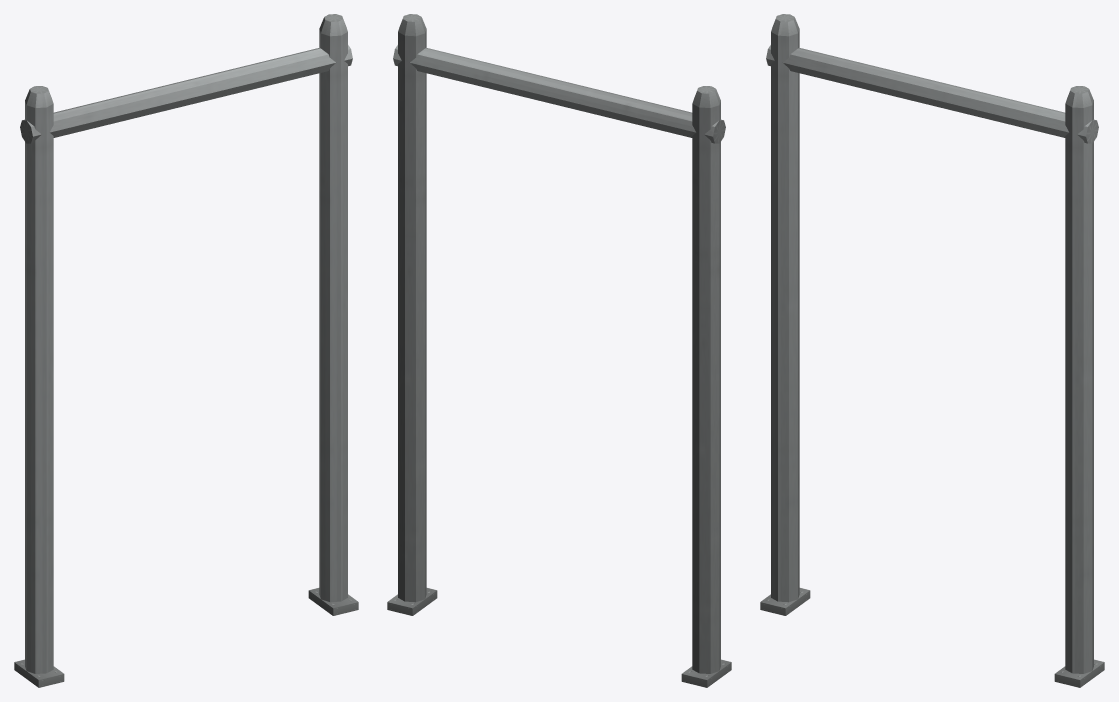
Rendered from pool_guardrail_end.glb.
3 renders of one model, left to right at view 1: azimuth 30°, elevation 25°; view 2: azimuth 150°, elevation 25°; view 3: azimuth 330°, elevation 25°, orthographic.
Visible parts, largest first — view 1: core_pool_guardrail_end; view 2: core_pool_guardrail_end; view 3: core_pool_guardrail_end.
Part boxes in pixels (x1,y1,x2,y2): core_pool_guardrail_end: (14, 14, 358, 687); core_pool_guardrail_end: (387, 14, 731, 687); core_pool_guardrail_end: (760, 14, 1104, 687).
Bounding box in the file's own units: 0.6 × 1.05 × 0.08.
Materials: 1 (1 with a texture image).
